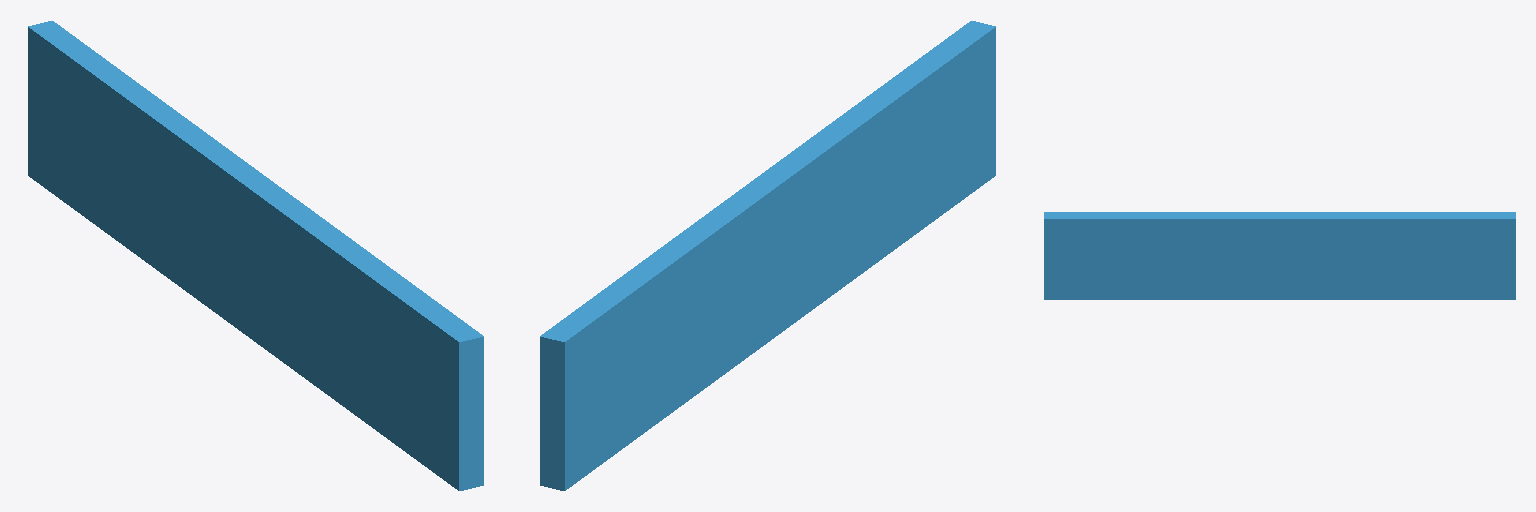
The robot description file, URDF, robot "box_90":
<?xml version="1.0" encoding="utf-8"?>    
    
    <robot name="box_90">
        <link name="box_90">    
            <fem>
                <origin rpy="0.0 0.0 0.0" xyz="0 0 0" />
                <density value="100" />
                <youngs value="1124"/>
                <poissons value="0.3" />
                <damping value="0.0" />
                <attachDistance value="0.01" />
                <tetmesh filename="[local-path]/sim_data/Custom/Custom_mesh/multi_box_1kPa/box_90.tet" />
                <scale value="0.5"/>
            </fem>
        </link>

        <link name="fix_frame">
            <visual>
                <origin xyz="-10.08533033036376 0.0 0.0"/>              
                <geometry>
                    <box size="0.005 0.15 0.028577226441935544"/>
                </geometry>
            </visual>
            <collision>
                <origin xyz="-0.08533033036376032 0.0 0.0"/>              
                <geometry>
                    <box size="0.005 0.15 0.028577226441935544"/>
                </geometry>
            </collision>
            <inertial>
                <mass value="500000"/>
                <inertia ixx="0.05" ixy="0.0" ixz="0.0" iyy="0.05" iyz="0.0" izz="0.05"/>
            </inertial>
        </link>
        
        <joint name = "attach" type = "fixed">
            <origin xyz = "0.0 0.0 0.0" rpy = "0 0 0"/>
            <parent link ="box_90"/>
            <child link = "fix_frame"/>
        </joint>  




    </robot>
    

--- What the picture shows (computed from the rendered views, not written in the file) ---
Views: 3 orthographic renders of the robot side by side, from view 1: azimuth 30°, elevation 25°; view 2: azimuth 150°, elevation 25°; view 3: azimuth 270°, elevation 25°.
Model box_90 with 2 links and 1 joints (1 fixed), rooted at box_90, posed all joints at 0.
Links seen in each view (by area): view 1: fix_frame; view 2: fix_frame; view 3: fix_frame.
Link boxes in pixels (x1,y1,x2,y2): fix_frame: [28, 21, 483, 490]; fix_frame: [540, 21, 995, 490]; fix_frame: [1044, 212, 1515, 299].
Bounding box of the posed robot: 0.005 × 0.15 × 0.0286 m (x, y, z).
Geometry: primitives only (box / cylinder / sphere), no mesh files.